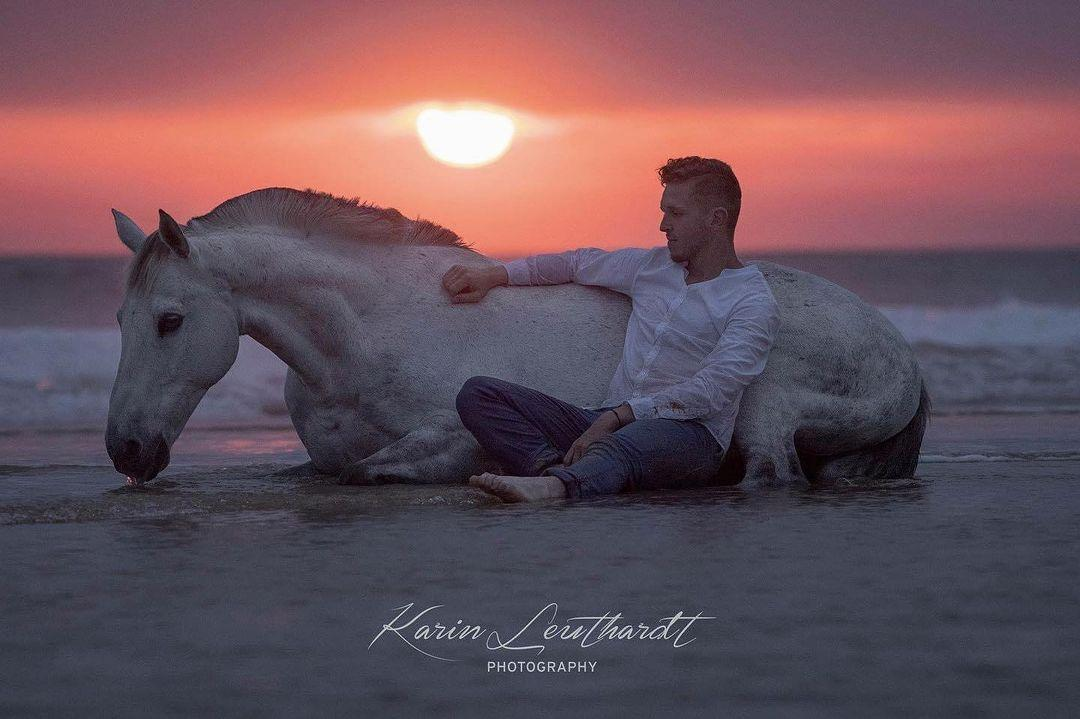horse: (104, 184, 932, 493)
